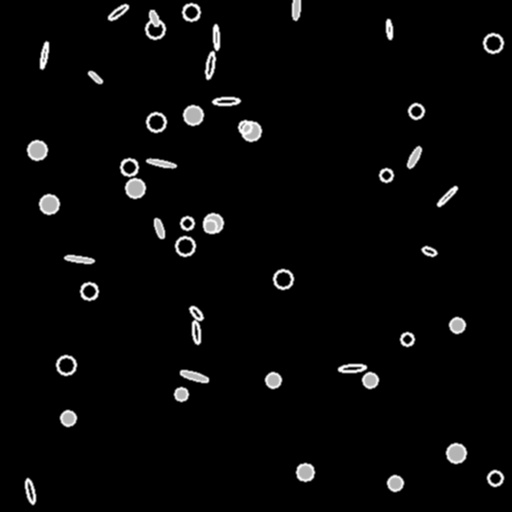pseudomonas: (436, 185, 458, 207), (107, 2, 129, 22), (180, 369, 208, 383), (406, 146, 422, 168), (24, 478, 36, 504), (152, 217, 166, 239), (147, 158, 175, 168), (205, 52, 215, 78), (39, 42, 49, 68), (188, 305, 204, 321), (212, 97, 240, 105), (65, 255, 93, 263), (87, 70, 103, 84), (191, 321, 201, 343), (148, 9, 160, 27), (339, 364, 365, 372), (421, 245, 437, 257), (213, 24, 219, 50), (292, 0, 300, 19), (386, 19, 392, 39)
synechocystis: (147, 113, 165, 131), (57, 356, 75, 374), (204, 214, 222, 232), (184, 106, 202, 124), (28, 141, 46, 159), (146, 20, 164, 38), (176, 237, 194, 255), (242, 122, 260, 140), (484, 34, 502, 52), (274, 270, 292, 288), (447, 444, 465, 462), (40, 195, 58, 213), (126, 179, 144, 197), (183, 4, 199, 20), (121, 159, 137, 175), (297, 464, 313, 480), (81, 283, 97, 299), (363, 373, 377, 387), (61, 411, 75, 425), (388, 476, 402, 490), (450, 318, 464, 332), (266, 373, 280, 387), (409, 104, 423, 118), (488, 471, 502, 485), (380, 169, 392, 181), (204, 220, 216, 232), (175, 388, 187, 400), (401, 333, 413, 345), (239, 121, 251, 133), (181, 217, 193, 229)
